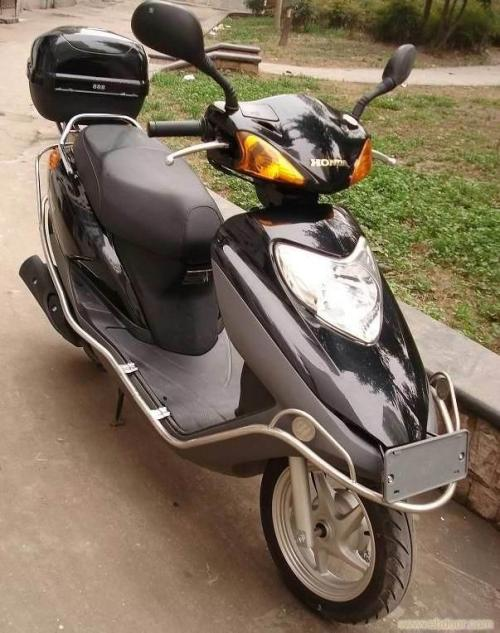motor: (37, 16, 456, 625)
